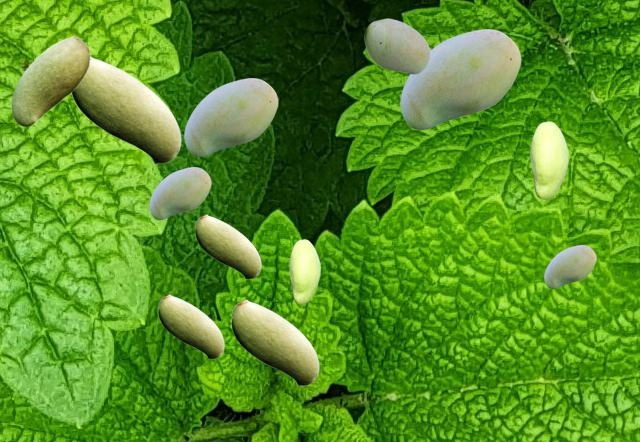green_mango: (400, 29, 520, 128), (71, 55, 180, 163), (231, 299, 318, 385), (184, 78, 277, 155), (11, 35, 89, 125), (158, 294, 223, 358), (195, 214, 260, 278), (364, 18, 429, 73), (149, 167, 210, 218), (530, 121, 567, 198), (544, 245, 595, 287), (289, 239, 319, 303)
